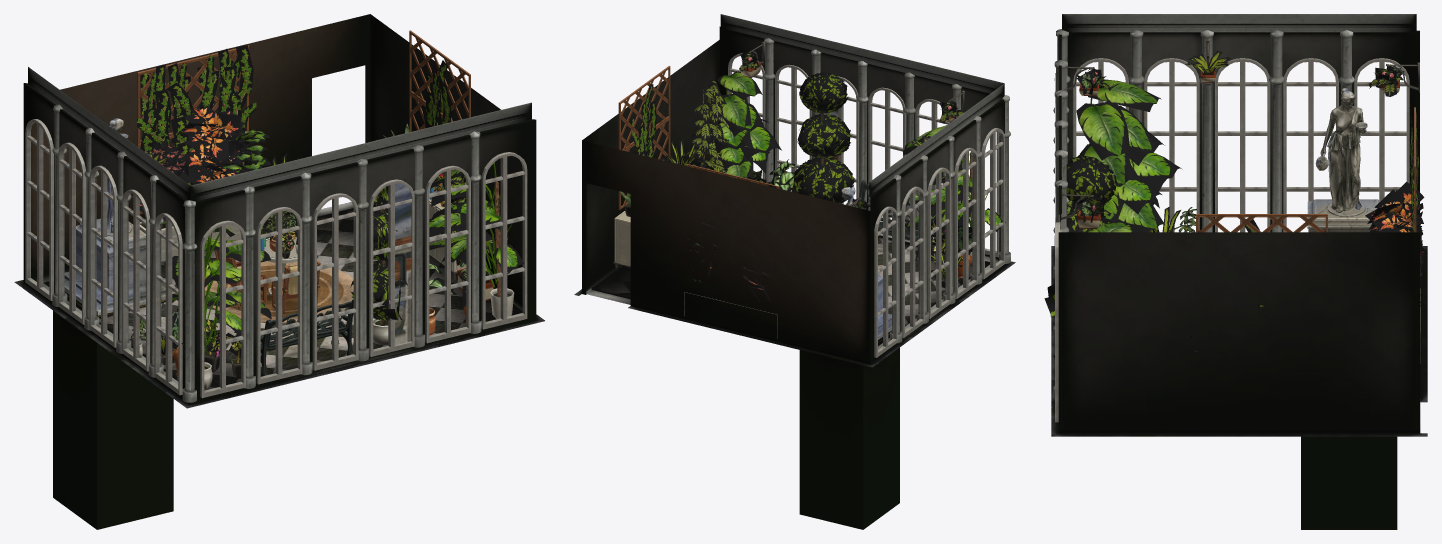
Rendered from conservatory.obj.
3 views of the same model, side by side, from view 1: azimuth 30°, elevation 25°; view 2: azimuth 150°, elevation 25°; view 3: azimuth 270°, elevation 25° (orthographic). The views are drawn at different scales.
Visible parts, largest first — view 1: conservatory_walls_6770, conservatory_plants_11350, conservatory_props_11238, conservatory_props_1548, conservatory_props_6; view 2: conservatory_walls_6770, conservatory_plants_11350, conservatory_props_11238, conservatory_props_1548; view 3: conservatory_walls_6770, conservatory_plants_11350, conservatory_props_1548, conservatory_props_11238.
Boxes of the visible parts, box(x1,y1,x2,y2) form: conservatory_walls_6770: box(14, 14, 544, 529); conservatory_plants_11350: box(130, 45, 524, 369); conservatory_props_11238: box(137, 30, 514, 388); conservatory_props_1548: box(64, 118, 175, 315); conservatory_props_6: box(395, 183, 411, 344); conservatory_walls_6770: box(574, 14, 1015, 529); conservatory_plants_11350: box(619, 51, 1002, 301); conservatory_props_11238: box(613, 41, 972, 338); conservatory_props_1548: box(841, 187, 891, 339); conservatory_walls_6770: box(1051, 14, 1427, 529); conservatory_plants_11350: box(1044, 50, 1426, 359); conservatory_props_1548: box(1307, 88, 1380, 232); conservatory_props_11238: box(1060, 39, 1420, 363).
Bounding box in the file's own units: 6 × 6.85 × 5.1.
